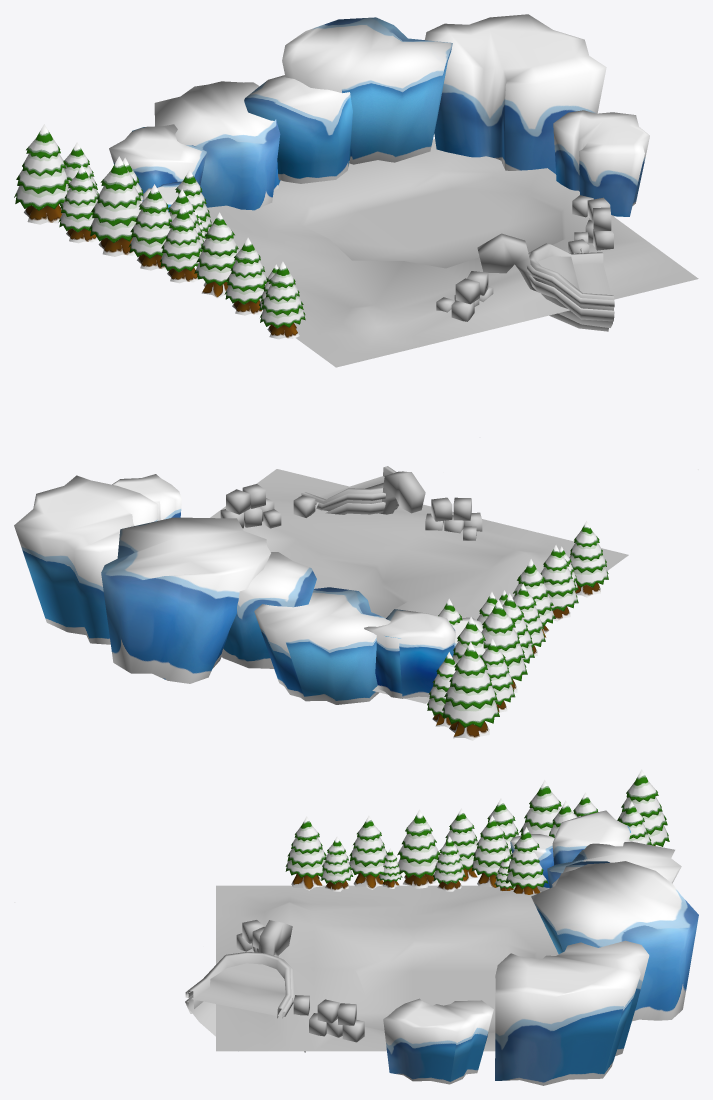
Rendered from Map_1_B_1.FBX.
The picture shows the model from 3 angles, top to bottom: view 1: azimuth 30°, elevation 25°; view 2: azimuth 150°, elevation 25°; view 3: azimuth 270°, elevation 25°; orthographic projection. The views are drawn at different scales.
Parts seen in each view (by area): view 1: tereno2, Iceberg011, Iceberg013, Iceberg012, Iceberg009, Iceberg016, ferry005, Iceberg014, Three055, Three040, Three041, Three046 (+8 smaller); view 2: tereno2, Iceberg013, Iceberg011, Iceberg012, Iceberg014, Iceberg009, Three055, ferry005, Three046, box004, Three040, box006 (+9 smaller); view 3: tereno2, Iceberg011, Iceberg013, Iceberg016, ferry005, Iceberg014, Iceberg012, Three049, Three046, Three045, box004, Three055 (+11 smaller).
Boxes of the visible parts, x1,y1,x2,y2 form: tereno2: [204, 139, 698, 367]; Iceberg011: [425, 14, 606, 173]; Iceberg013: [282, 17, 452, 164]; Iceberg012: [154, 81, 280, 210]; Iceberg009: [244, 75, 352, 183]; Iceberg016: [553, 110, 649, 216]; ferry005: [477, 233, 614, 331]; Iceberg014: [109, 124, 206, 196]; Three055: [14, 124, 68, 224]; Three040: [89, 156, 141, 256]; Three041: [128, 184, 171, 270]; Three046: [260, 261, 305, 339]; tereno2: [210, 469, 628, 703]; Iceberg013: [101, 517, 270, 683]; Iceberg011: [14, 475, 158, 644]; Iceberg012: [254, 587, 390, 704]; Iceberg014: [364, 609, 455, 698]; Iceberg009: [221, 552, 316, 668]; Three055: [442, 642, 499, 740]; ferry005: [299, 466, 425, 514]; Three046: [569, 521, 608, 597]; box004: [220, 484, 281, 528]; Three040: [481, 599, 527, 693]; box006: [425, 497, 482, 540]; tereno2: [216, 885, 558, 1051]; Iceberg011: [495, 940, 649, 1085]; Iceberg013: [531, 861, 698, 1021]; Iceberg016: [383, 998, 493, 1084]; ferry005: [185, 920, 305, 1052]; Iceberg014: [552, 810, 630, 865]; Iceberg012: [547, 841, 681, 888]; Three049: [397, 809, 440, 888]; Three046: [285, 816, 326, 890]; Three045: [349, 815, 387, 889]; box004: [309, 999, 364, 1042]; Three055: [617, 769, 669, 846].
Size of the model in its own units: 717 by 191 by 873.
